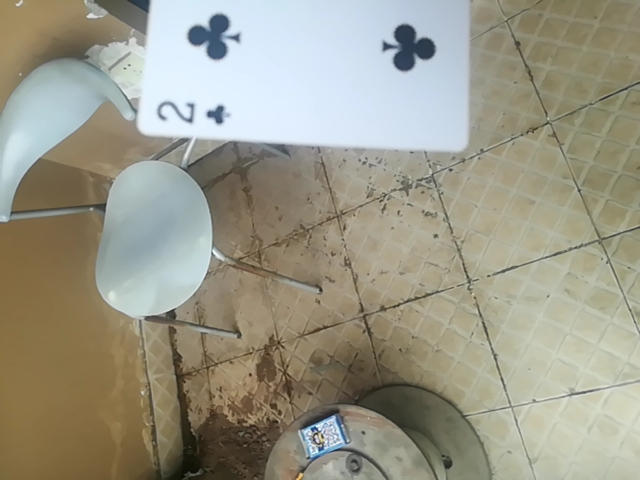mh 2: (136, 1, 462, 153)
